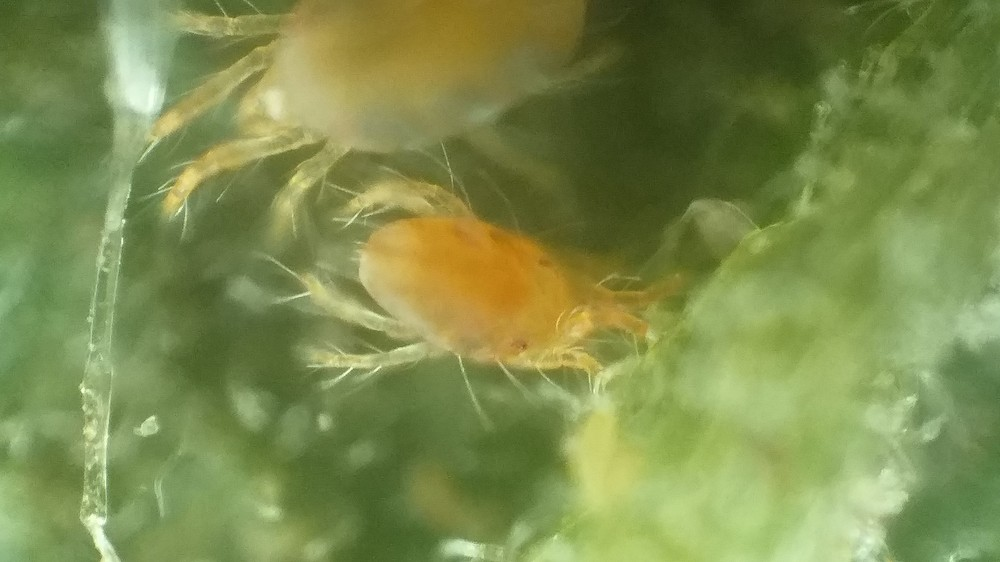Aracnido Rojo: (136, 2, 707, 224), (288, 170, 732, 435)
